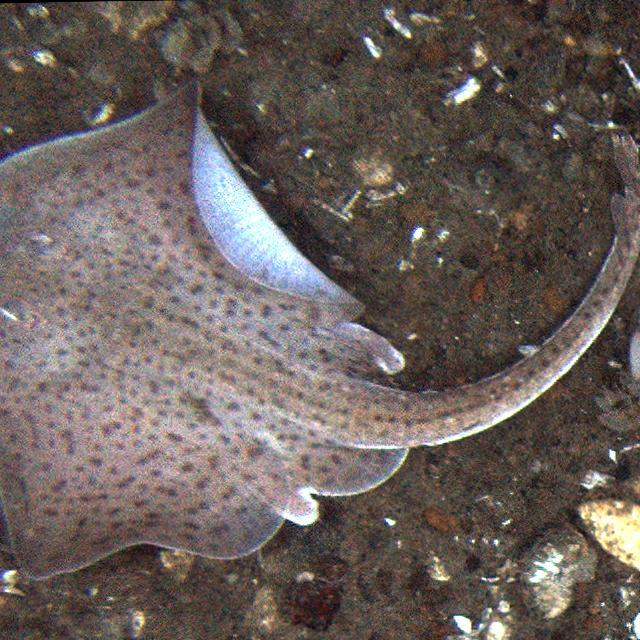skate: (0, 69, 640, 575)
